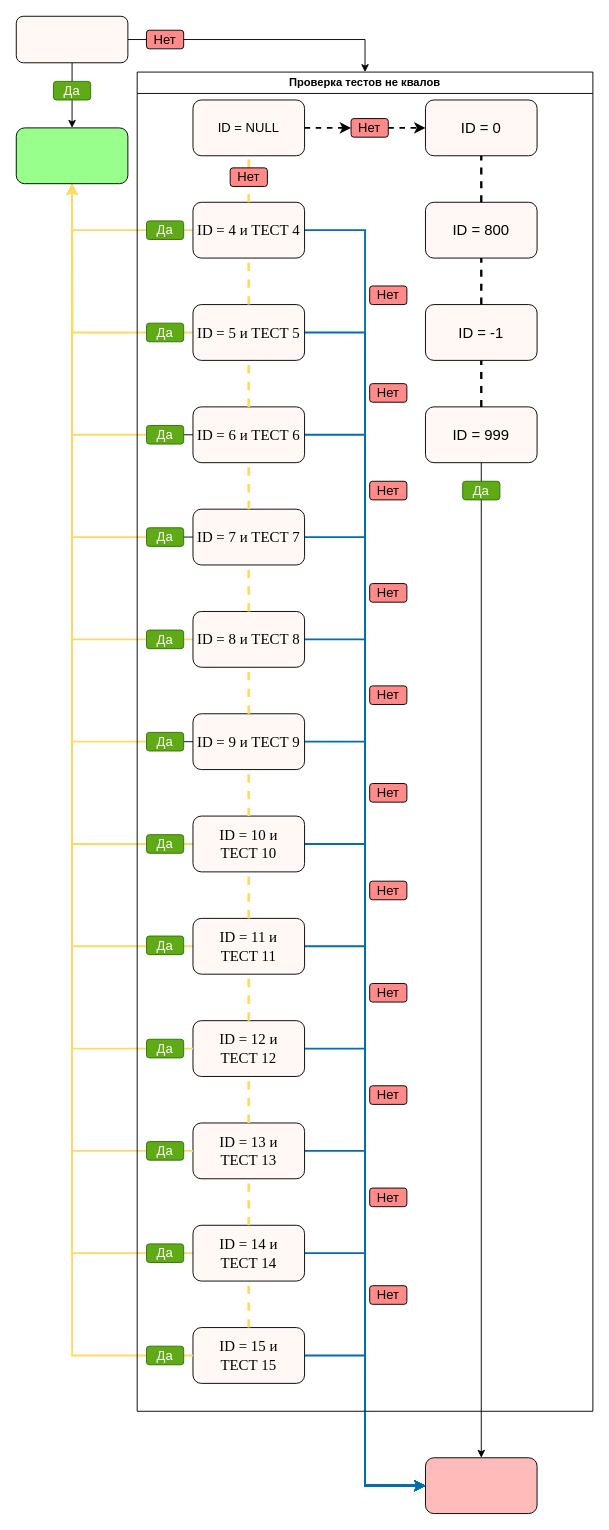
Image size: 609x1530. Some labels were removed from this diagram. Here are the shapes that lost their labels. From the top down, the centre of each, then its label:
At point (71, 39): "Инвестор квал?".
At point (71, 155): "Выполнить".
At point (481, 1485): "Отмена".
